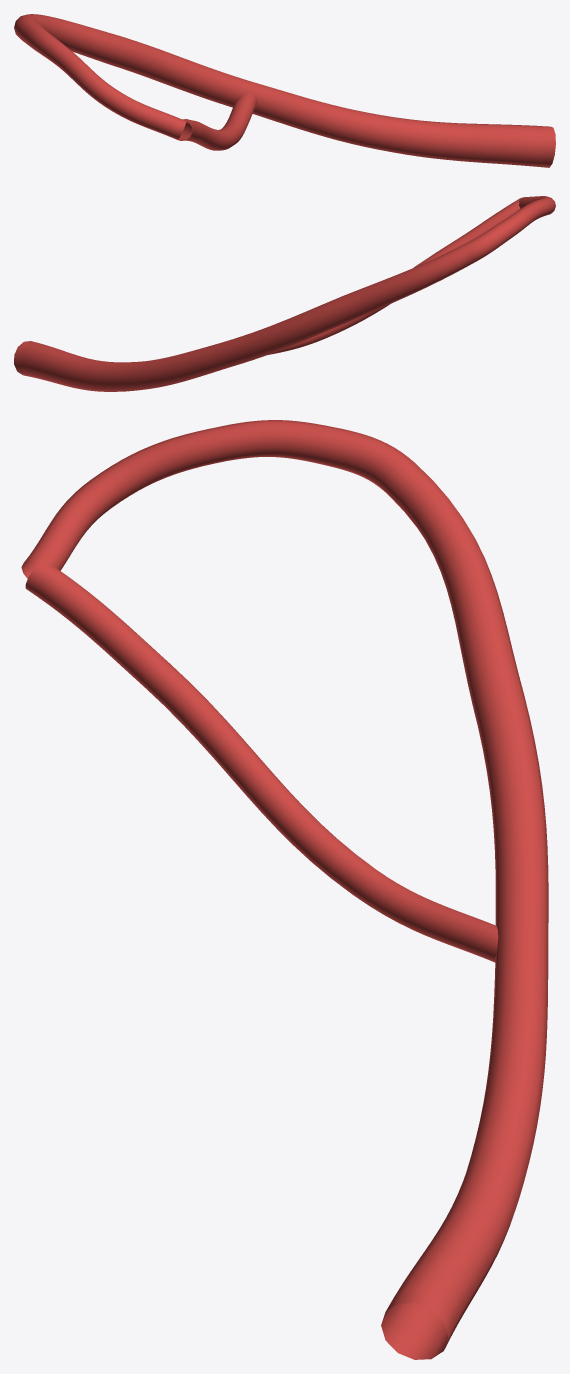
The picture shows the model from 3 angles, top to bottom: view 1: azimuth 30°, elevation 25°; view 2: azimuth 150°, elevation 25°; view 3: azimuth 270°, elevation 25°; orthographic projection. The views are drawn at different scales.
Parts seen in each view (by area): view 1: 右结肠动脉; view 2: 右结肠动脉; view 3: 右结肠动脉.
Part boxes in pixels (<box>): 右结肠动脉: <box>14,14,555,167</box>; 右结肠动脉: <box>14,196,555,391</box>; 右结肠动脉: <box>21,420,548,1359</box>.
Bounding box in the file's own units: 0.091 × 0.0457 × 0.0441.
